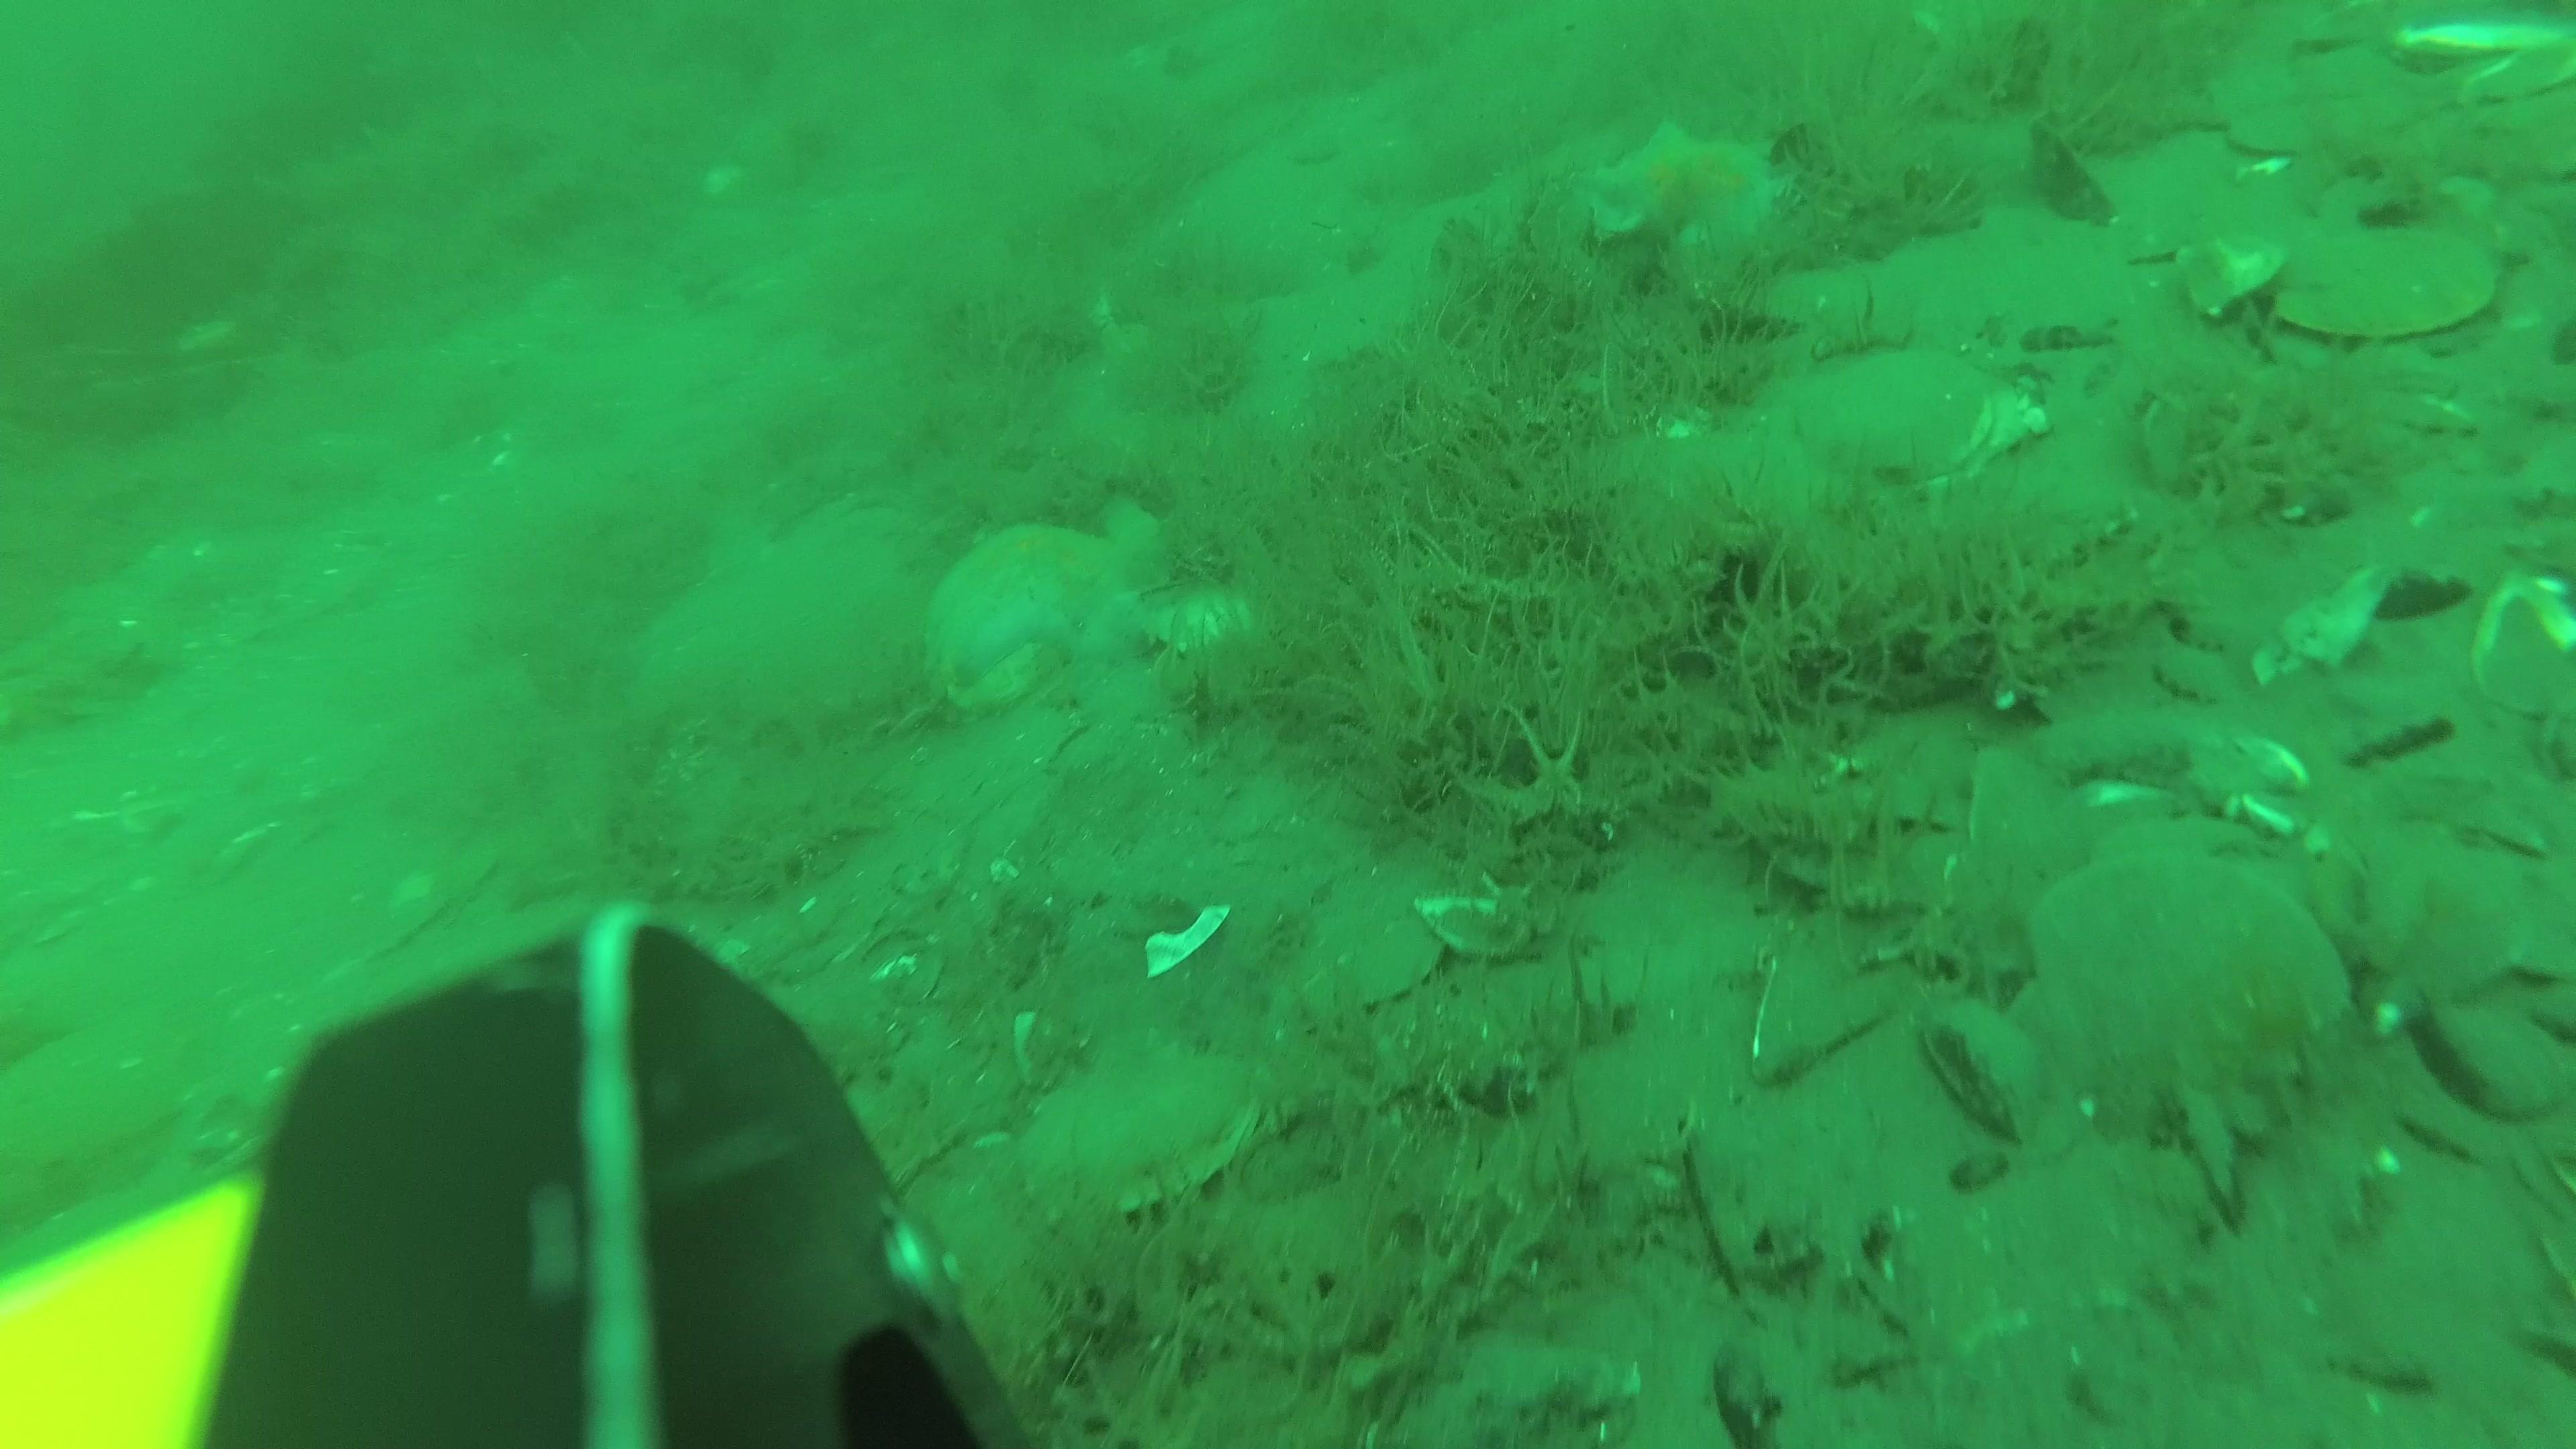scallop: (2017, 858, 2346, 1095), (1016, 1054, 1256, 1208), (1796, 349, 2024, 487), (2266, 230, 2495, 338)
starfish: (916, 506, 1182, 708), (1599, 120, 1803, 249)
